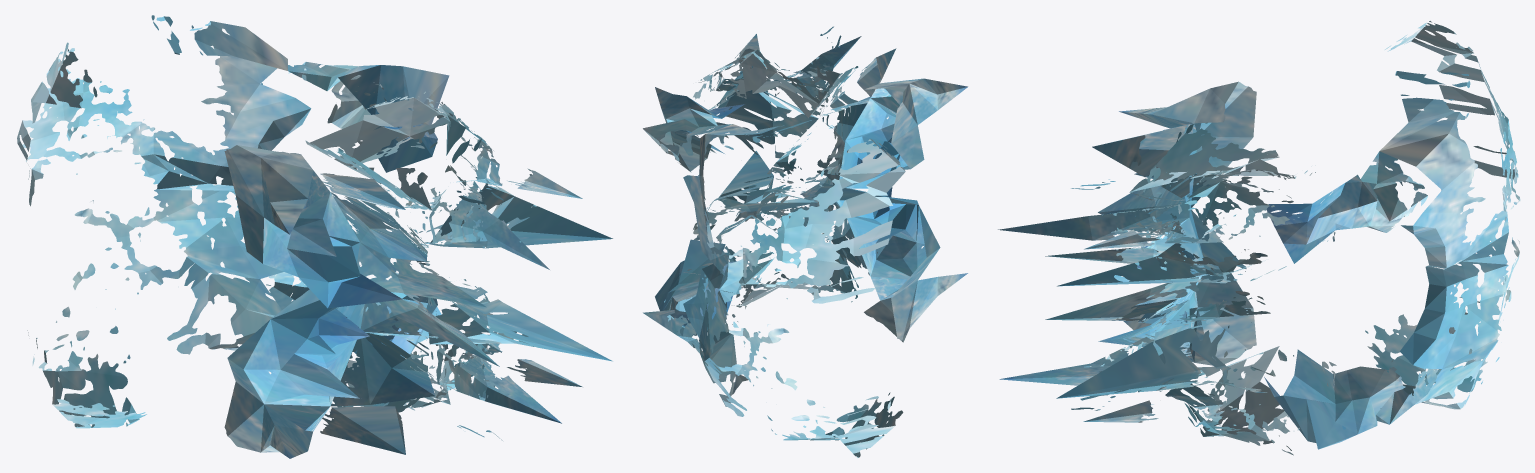
Rendered from wolverine_upperchest_ice.glb.
The picture shows the model from 3 angles, left to right: view 1: azimuth 30°, elevation 25°; view 2: azimuth 150°, elevation 25°; view 3: azimuth 270°, elevation 25°; orthographic projection. The views are drawn at different scales.
Parts seen in each view (by area): view 1: wolverine_upperchest_ice_0; view 2: wolverine_upperchest_ice_0; view 3: wolverine_upperchest_ice_0.
Part boxes in pixels (x1=…): wolverine_upperchest_ice_0: x1=17, y1=15, x2=612, y2=458; wolverine_upperchest_ice_0: x1=643, y1=26, x2=967, y2=457; wolverine_upperchest_ice_0: x1=998, y1=21, x2=1520, y2=455.
Size of the model in its own units: 16.92 by 17.18 by 22.38.
1 material, 1 textured.
